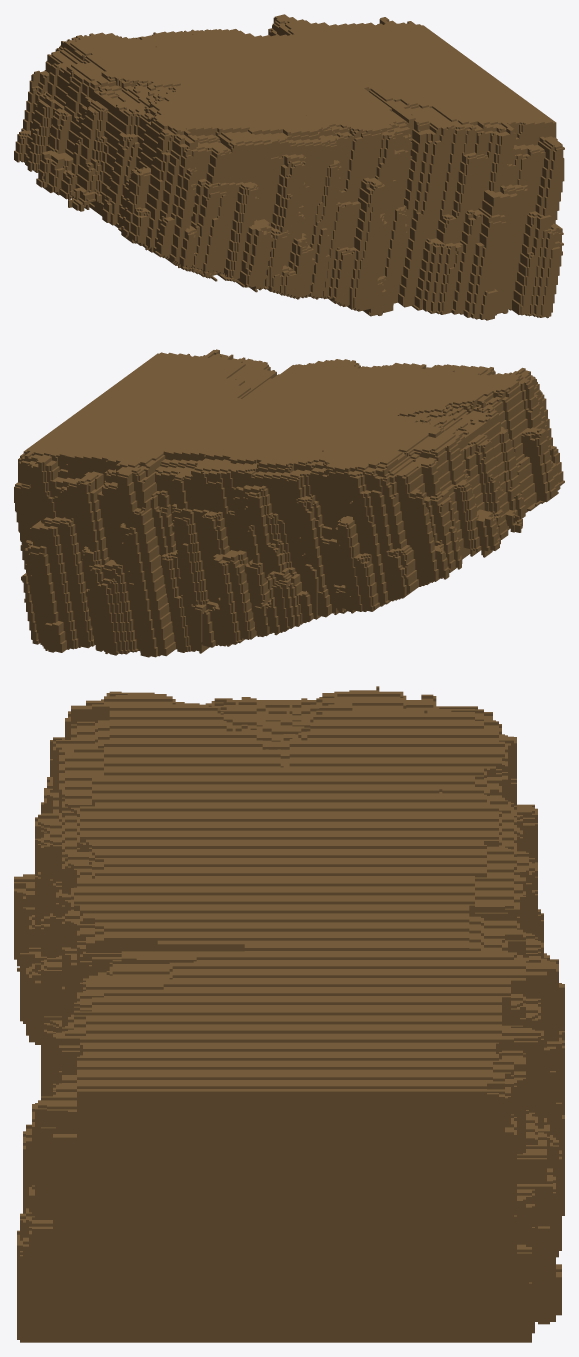
The model's file is forest1.1-118.obj.
3 views of the same model, one above another, from view 1: azimuth 30°, elevation 25°; view 2: azimuth 150°, elevation 25°; view 3: azimuth 270°, elevation 25° (orthographic). The views are drawn at different scales.
Size of the model in its own units: 25.4 by 14.2 by 18.4.
Materials: 1 (1 with a texture image).
